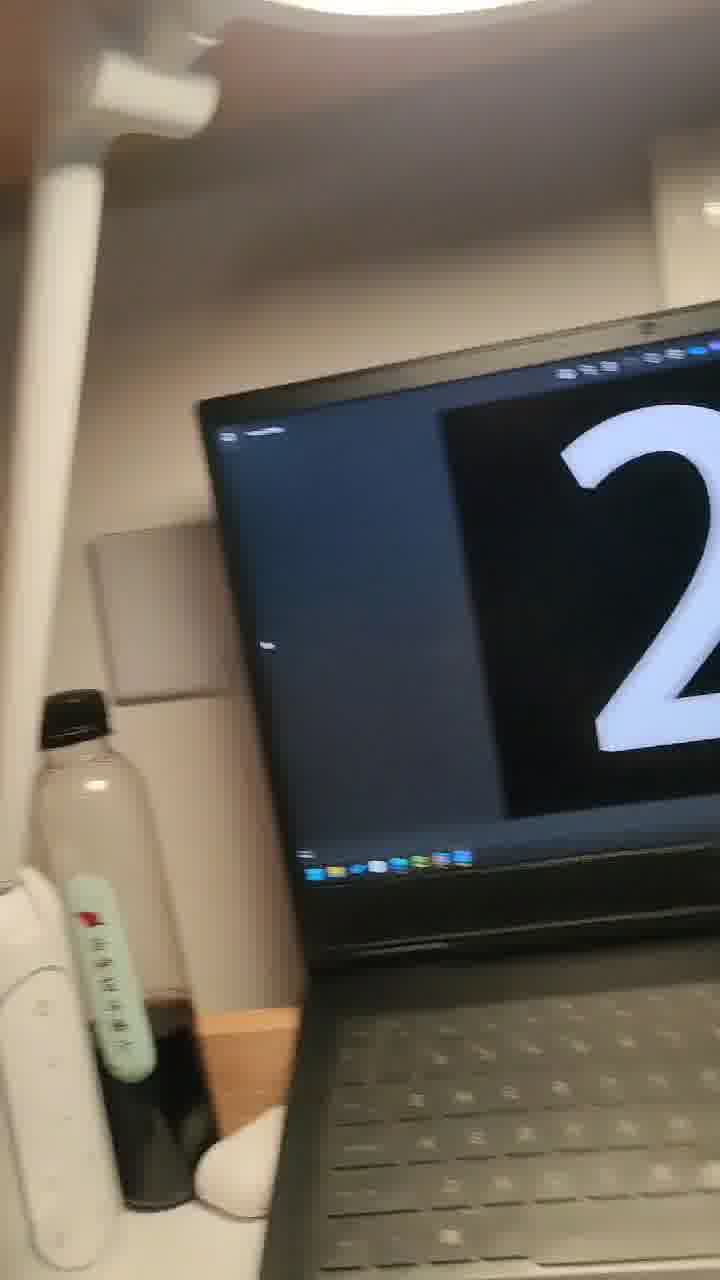two: (507, 388, 720, 912)
